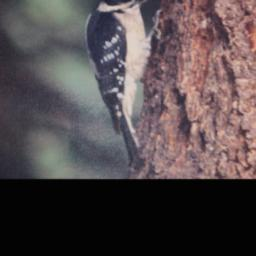Woodpecker: (81, 0, 170, 168)
